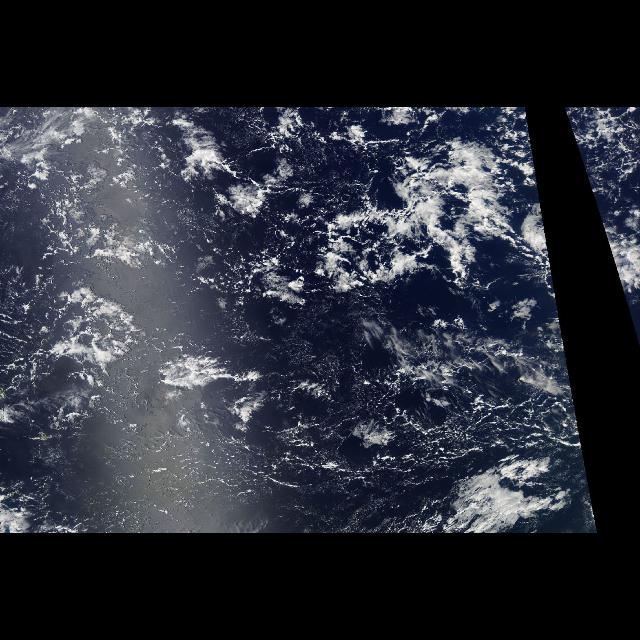Gravel: (82, 324, 584, 522), (39, 203, 155, 391)
Sugar: (114, 361, 246, 514)
